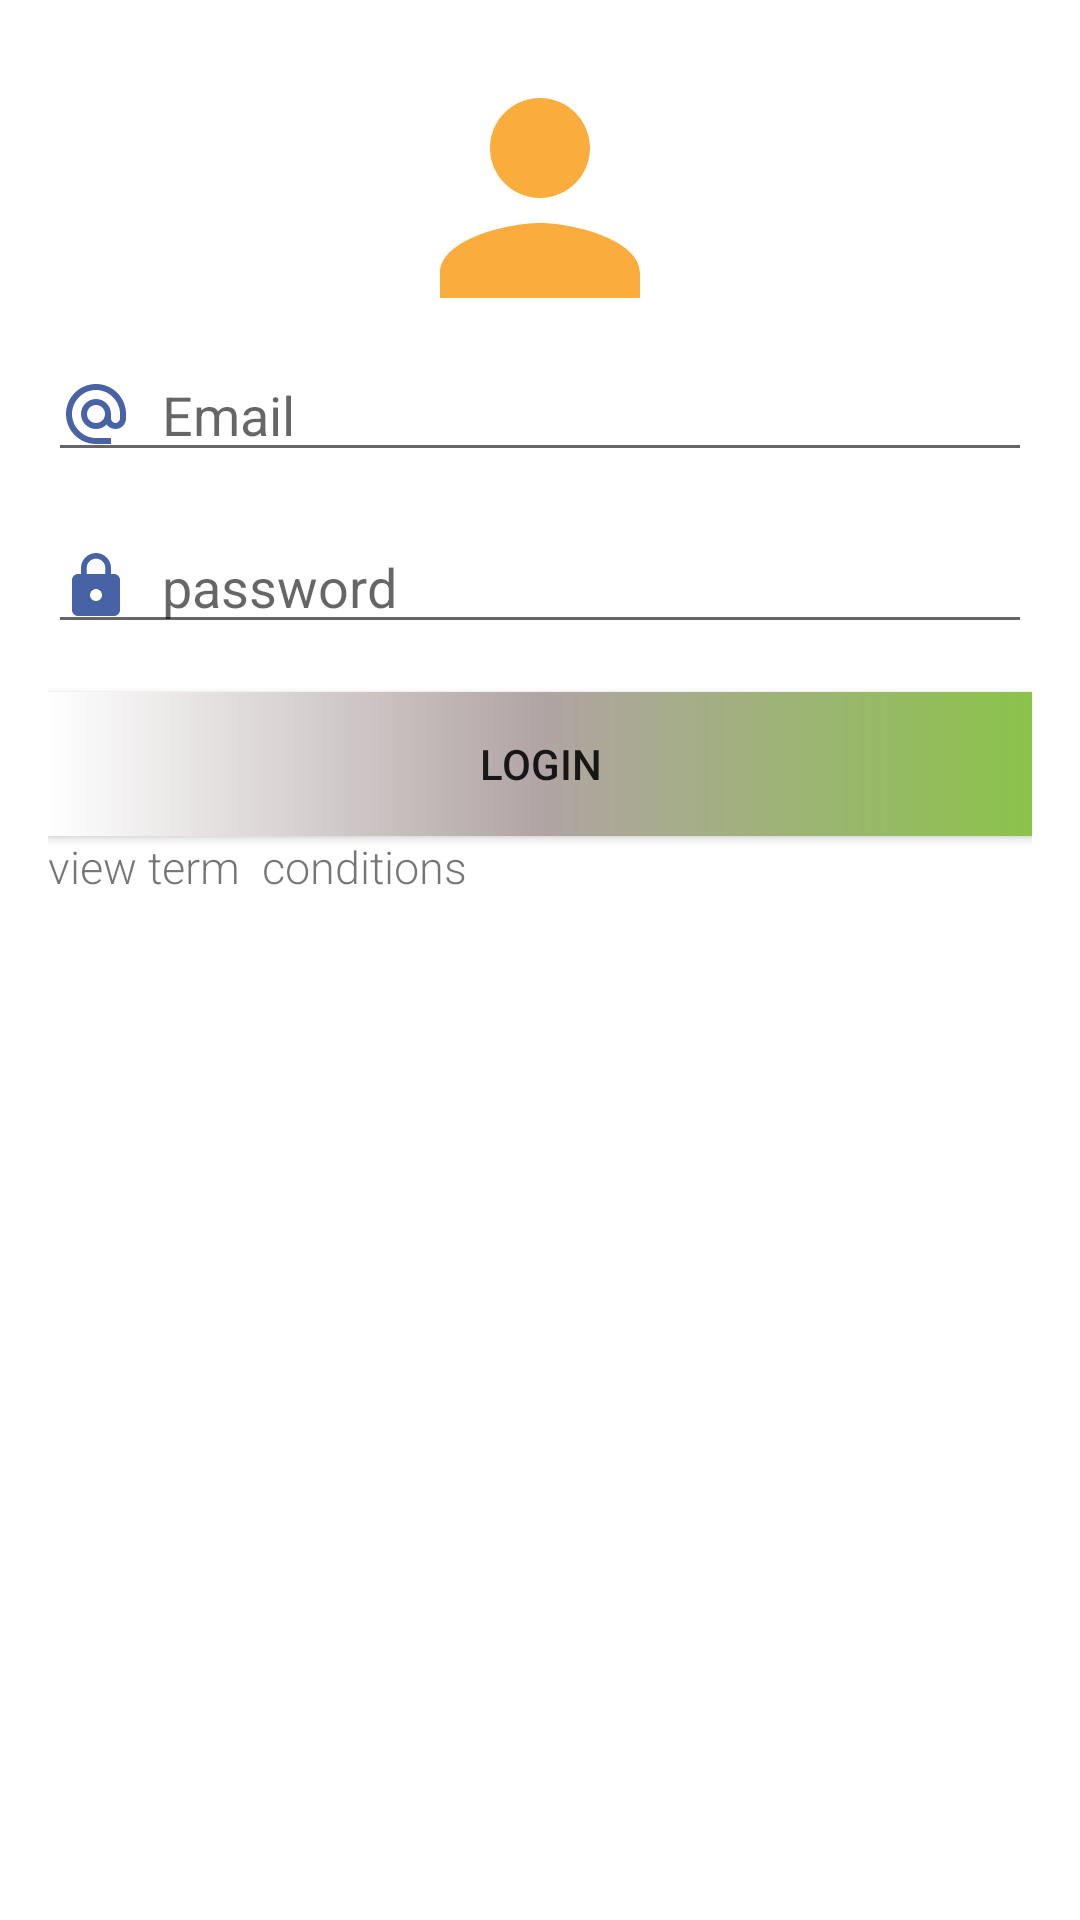

Screen size 1080w x 1920h. Icon name, then its center in pixels as point (x, y):
person: point (540, 198)
